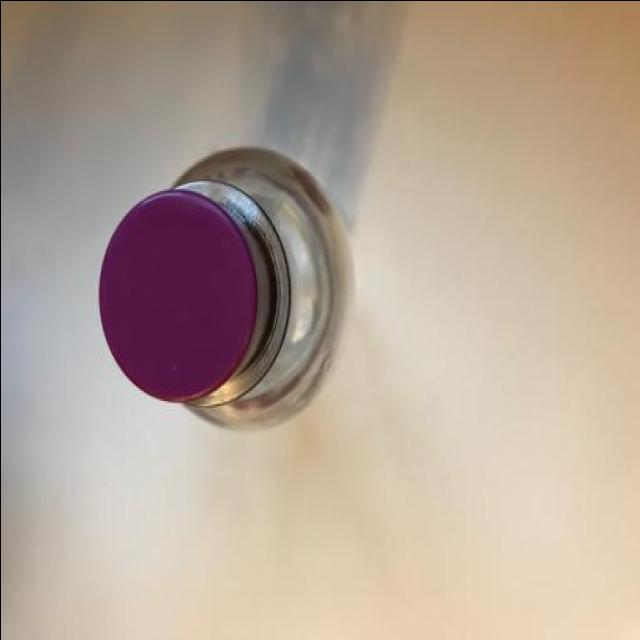glass: (71, 132, 356, 452)
